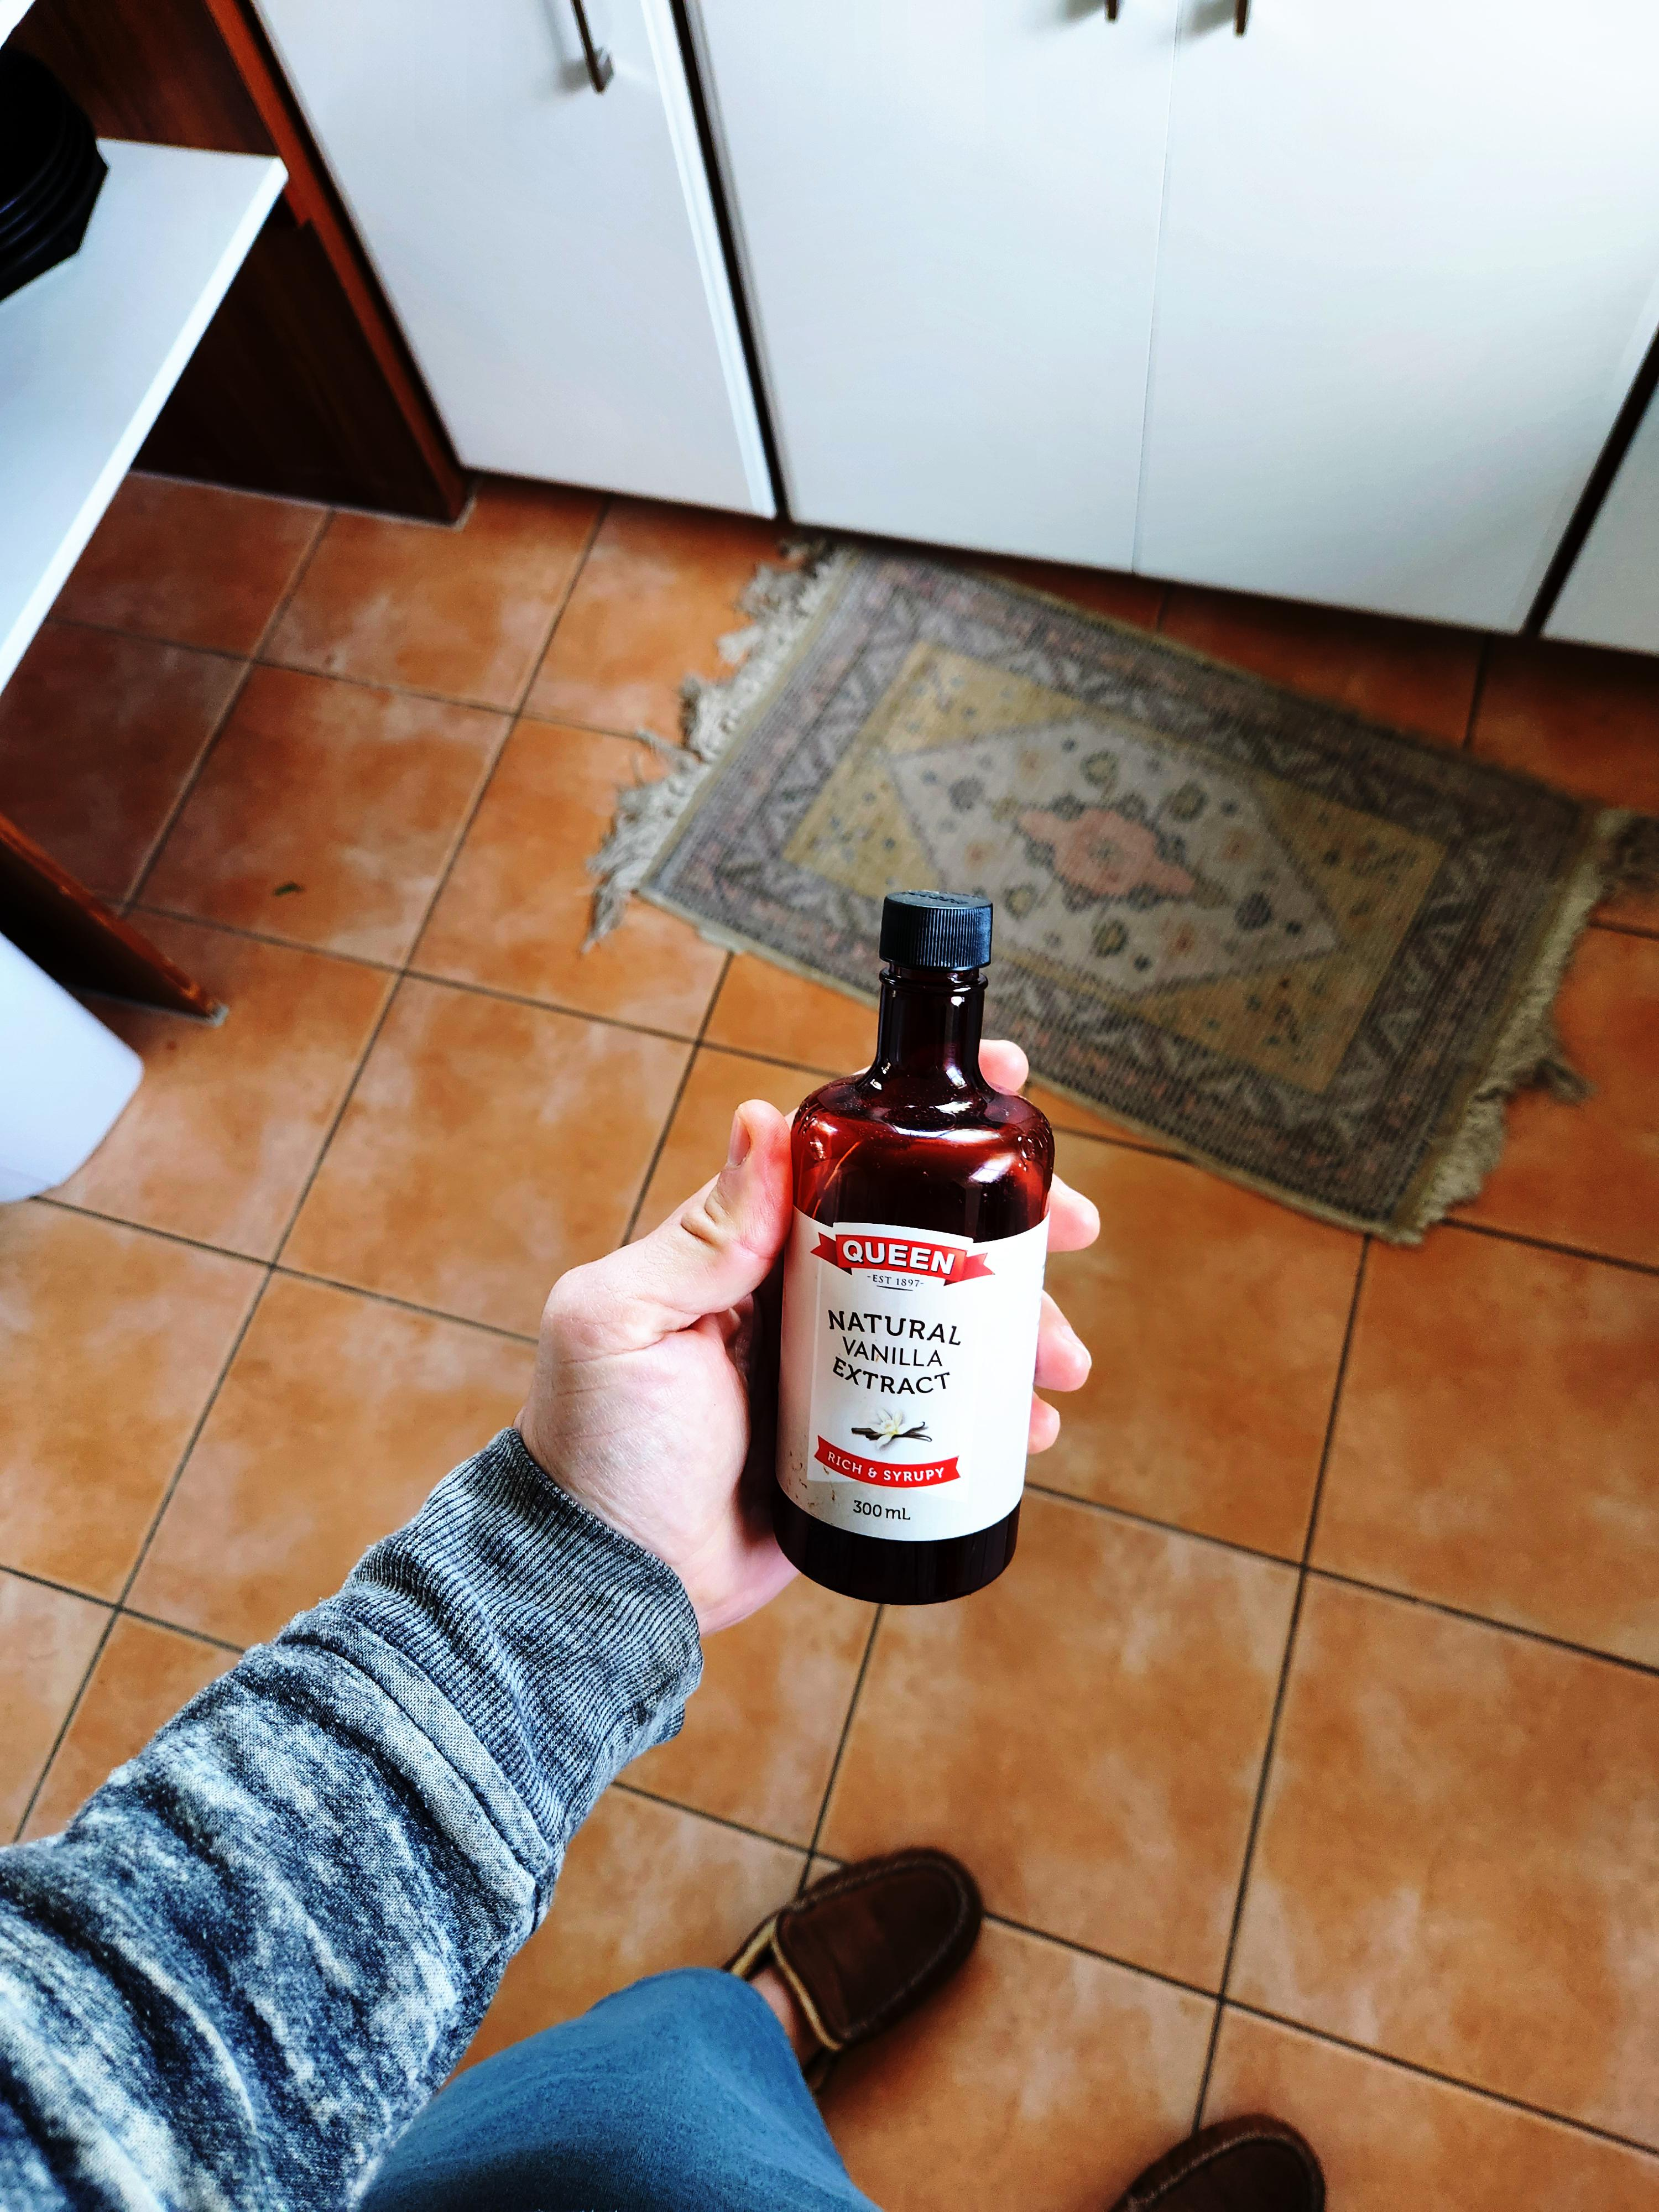vanilla: (586, 1181, 788, 2149)
